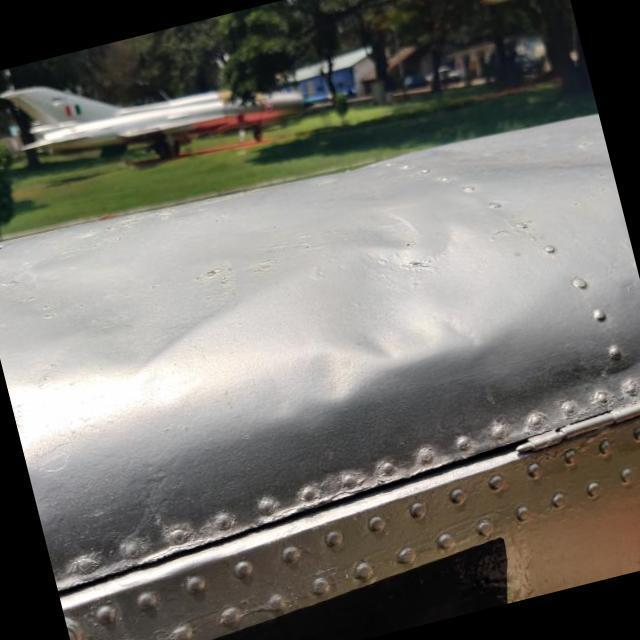dent: (274, 170, 556, 418), (42, 306, 250, 428), (488, 116, 618, 188)
